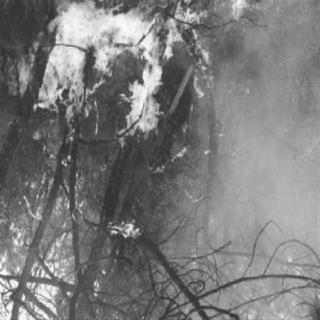Fire: (12, 3, 206, 147), (221, 2, 277, 26), (109, 215, 143, 249)
